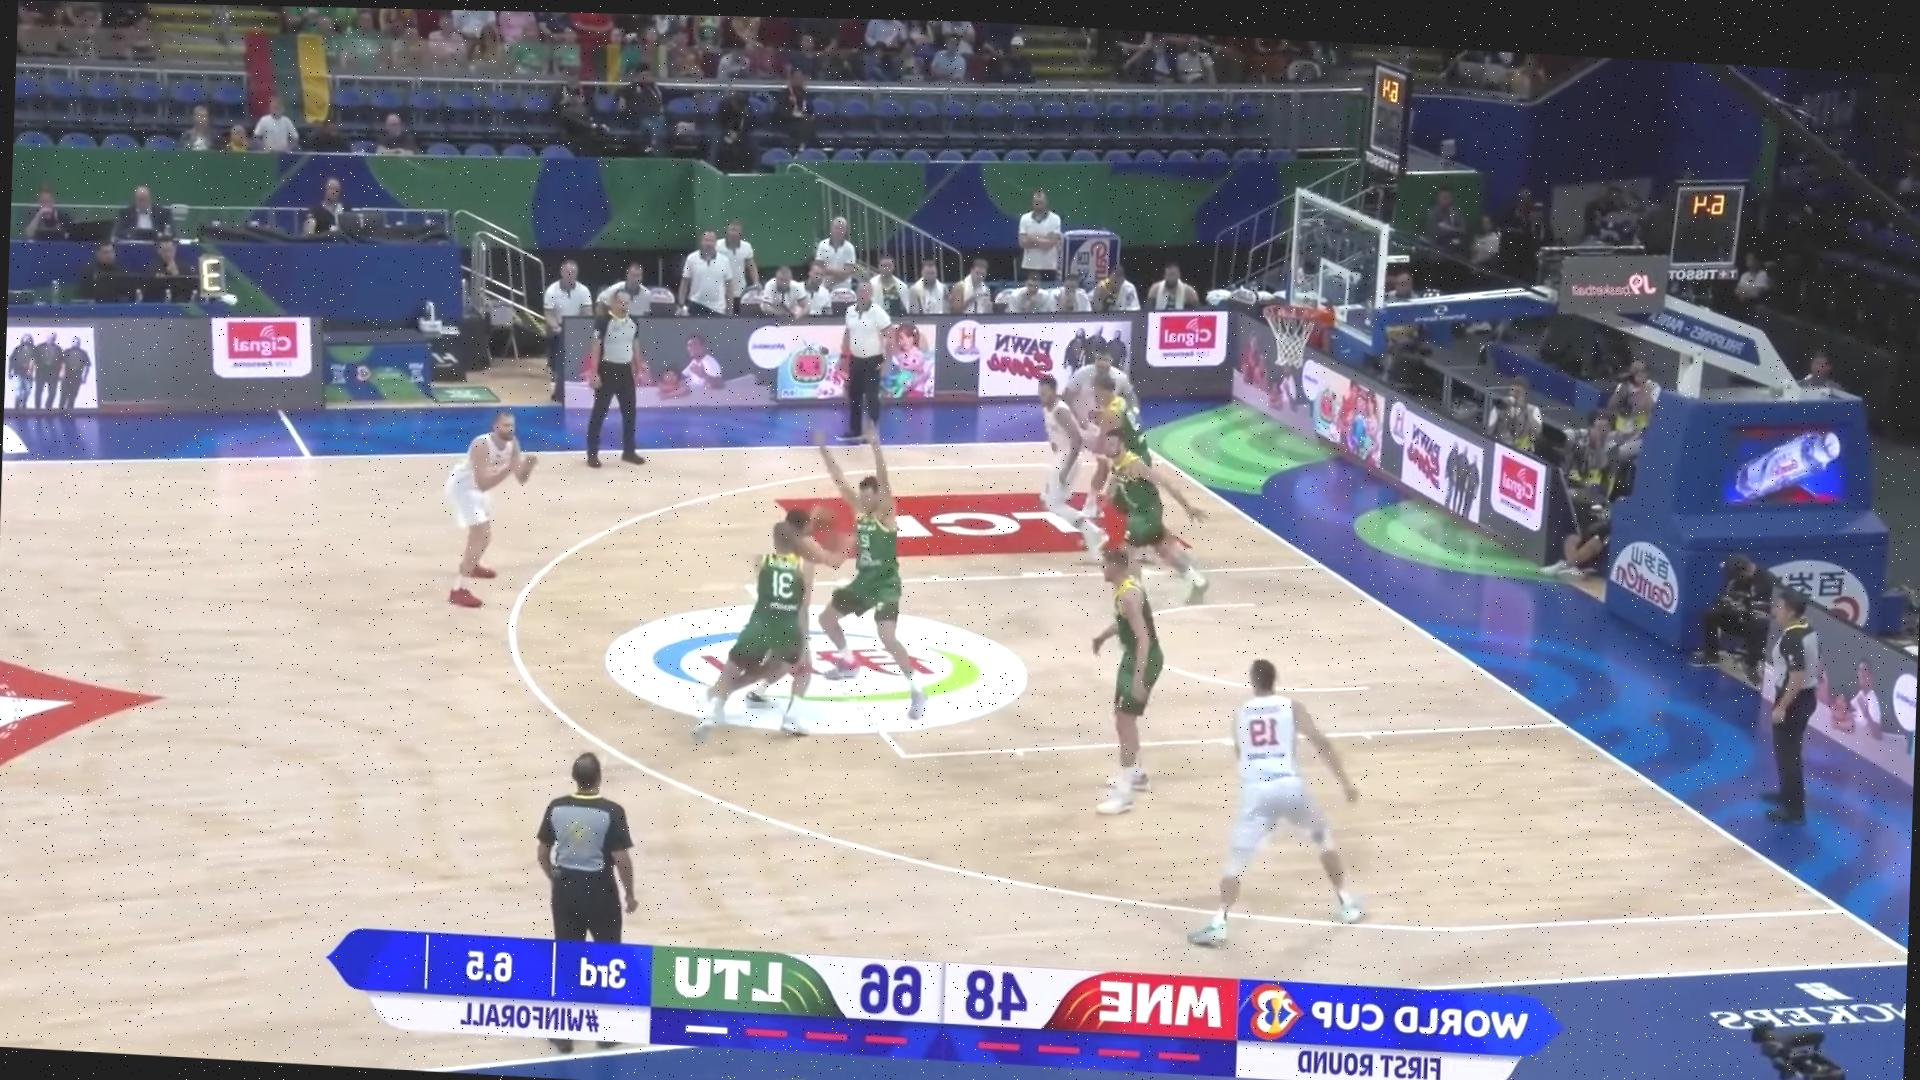foul: (659, 485, 876, 774)
